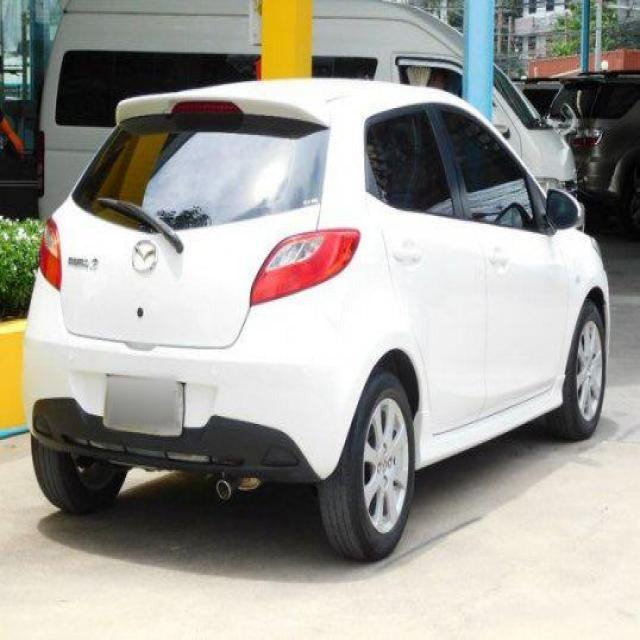back_bumper: (22, 252, 373, 483)
back_glass: (73, 113, 330, 231)
back_left_light: (38, 216, 62, 292)
back_right_door: (363, 103, 486, 437)
back_right_light: (249, 229, 361, 306)
front_right_door: (430, 103, 569, 421)
right_mirror: (545, 188, 584, 232)
trunk: (50, 201, 320, 348)
wheel: (32, 299, 607, 563)
